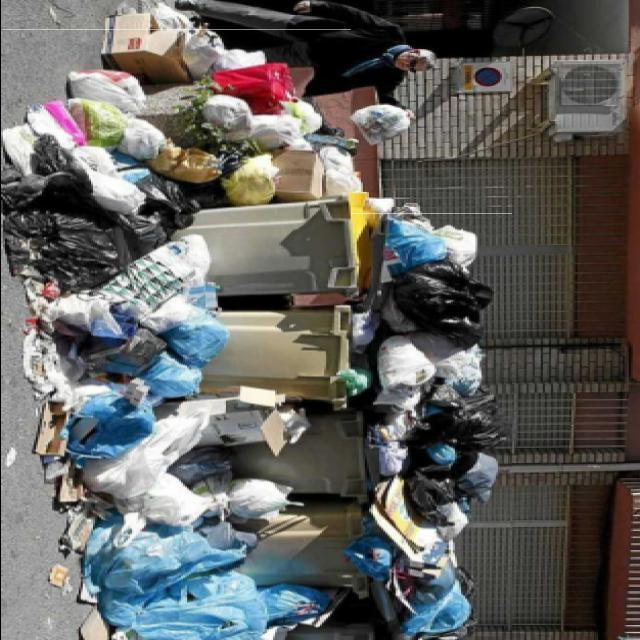Trashbag: (8, 200, 126, 294), (389, 248, 496, 348), (415, 387, 518, 444), (120, 174, 197, 248)
